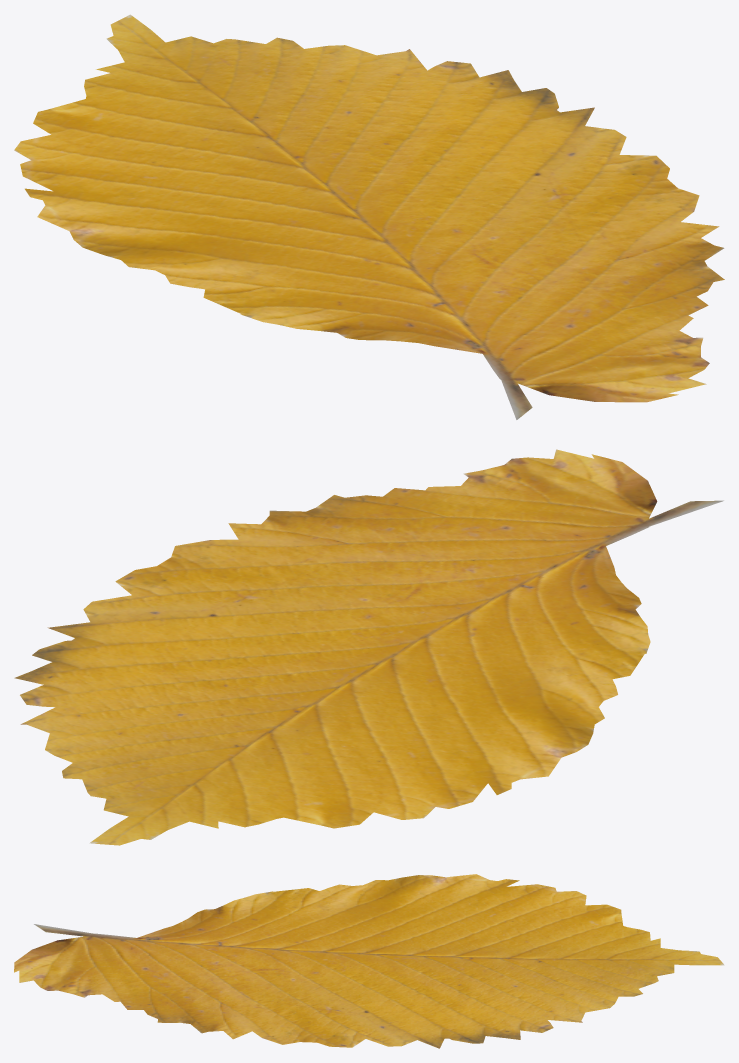
File: american_elm.glb
3 renders of one model, top to bottom at view 1: azimuth 30°, elevation 25°; view 2: azimuth 150°, elevation 25°; view 3: azimuth 270°, elevation 25°, orthographic. The views are drawn at different scales.
Visible parts, largest first — view 1: american elm - source.001; view 2: american elm - source.001; view 3: american elm - source.001.
Boxes of the visible parts, left/top/right/bottom form: american elm - source.001: left=14, top=14, right=724, bottom=419; american elm - source.001: left=14, top=449, right=723, bottom=845; american elm - source.001: left=14, top=874, right=724, bottom=1048.
Size of the model in its own units: 1.41 by 0 by 2.42.
Materials: 1 (1 with a texture image).
